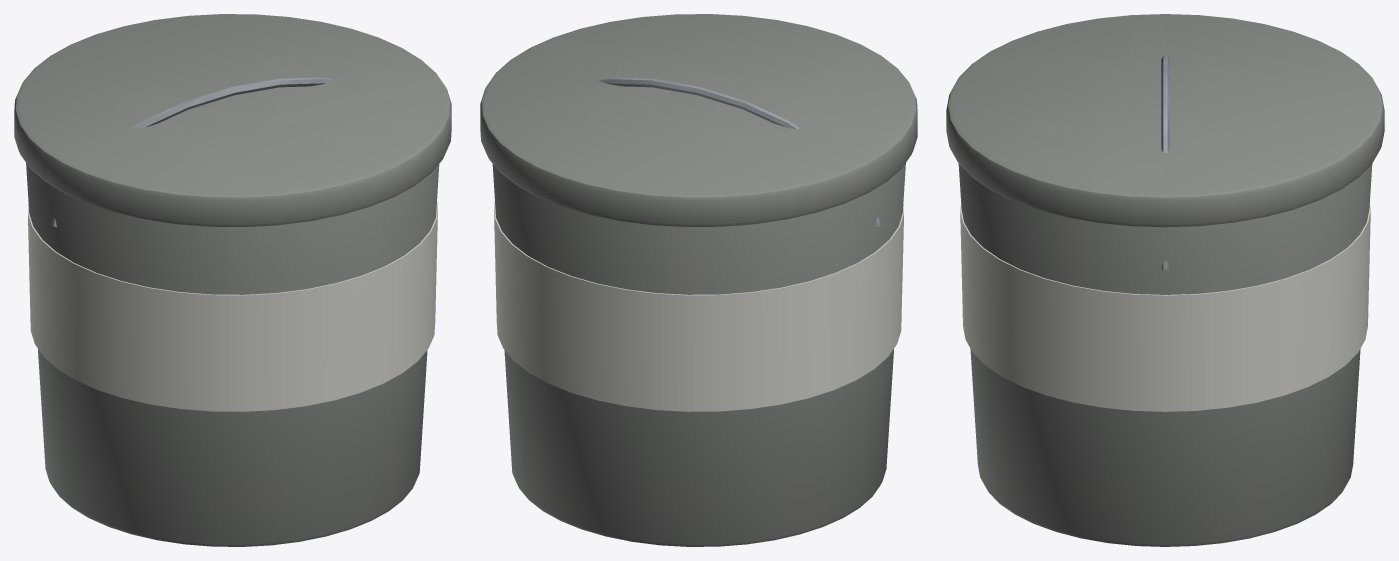
Rendered from ALV-DRY-008_lod1.glb.
3 renders of one model, left to right at view 1: azimuth 30°, elevation 25°; view 2: azimuth 150°, elevation 25°; view 3: azimuth 270°, elevation 25°, orthographic.
Parts seen in each view (by area): view 1: ALV-DRY-008_balde, ALV-DRY-008_tampa, ALV-DRY-008_faixa, ALV-DRY-008_alca; view 2: ALV-DRY-008_balde, ALV-DRY-008_tampa, ALV-DRY-008_faixa, ALV-DRY-008_alca; view 3: ALV-DRY-008_balde, ALV-DRY-008_tampa, ALV-DRY-008_faixa, ALV-DRY-008_alca.
Part boxes in pixels (x1,y1,x2,y2): ALV-DRY-008_balde: (26, 163, 439, 546); ALV-DRY-008_tampa: (14, 14, 451, 226); ALV-DRY-008_faixa: (28, 201, 437, 411); ALV-DRY-008_alca: (51, 77, 333, 227); ALV-DRY-008_balde: (492, 163, 905, 546); ALV-DRY-008_tampa: (480, 14, 917, 226); ALV-DRY-008_faixa: (494, 201, 903, 411); ALV-DRY-008_alca: (598, 77, 880, 227); ALV-DRY-008_balde: (958, 164, 1372, 546); ALV-DRY-008_tampa: (946, 14, 1384, 227); ALV-DRY-008_faixa: (960, 203, 1370, 411); ALV-DRY-008_alca: (1161, 55, 1169, 269).
Size of the model in its own units: 0.304 by 0.2926 by 0.304.
Materials: 3 (3 with a texture image).
